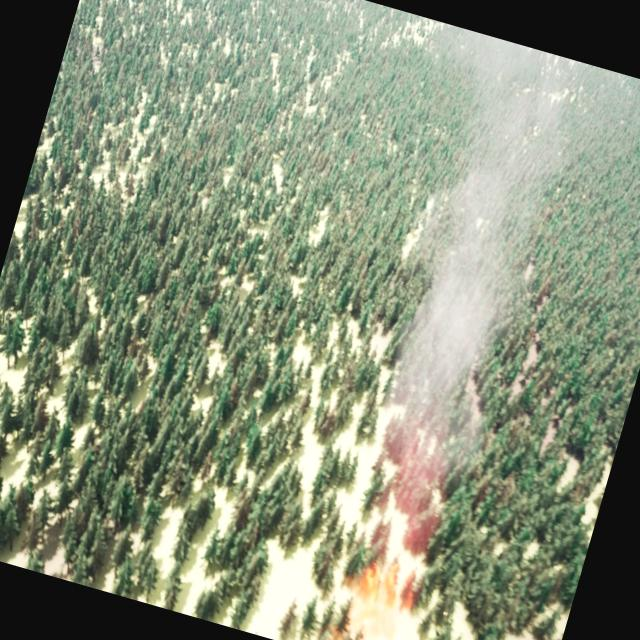fire: (334, 546, 419, 640)
smoke: (333, 31, 584, 549)
